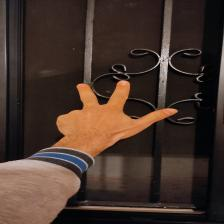three: (59, 79, 183, 148)
